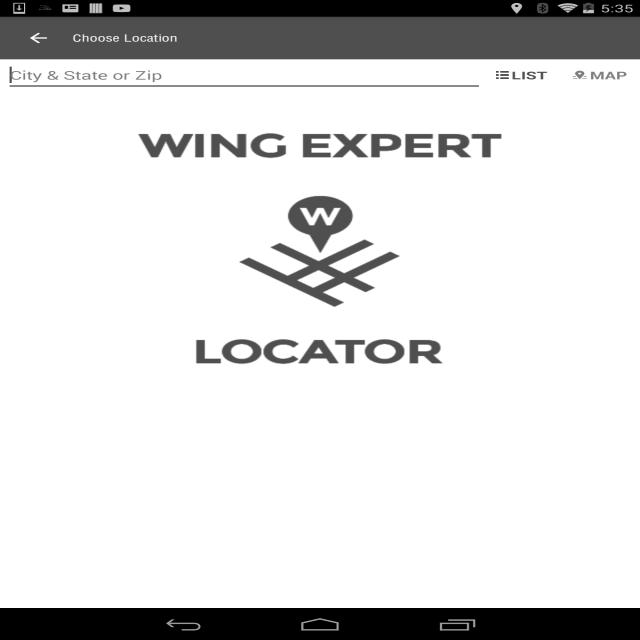Button: (560, 59, 640, 92), (483, 59, 560, 92)
EditText: (6, 59, 483, 92)
ImageButton: (9, 19, 68, 57), (483, 59, 522, 91), (560, 59, 599, 91)
ImageView: (53, 98, 587, 431)
TextView: (73, 32, 178, 44)
